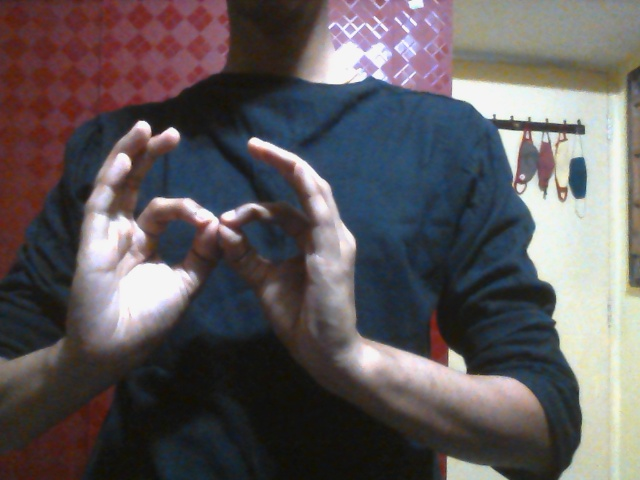B: (67, 121, 357, 388)
